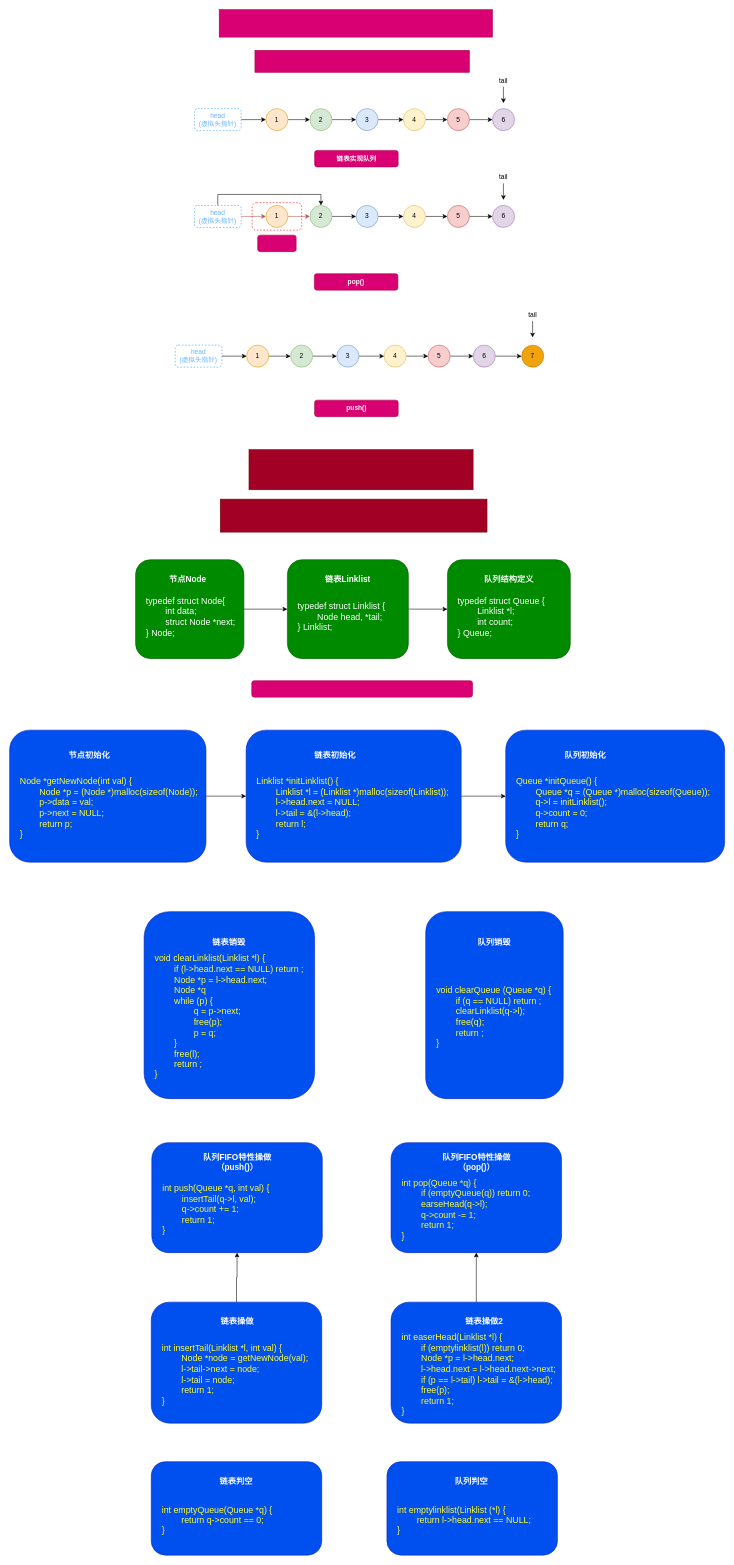
Image size: 734x1565. Some labels were removed from this diagram. Each missing label, with the centre of its shape:
"2.1 队列与栈 （链表实现队列）" goes at (x=361, y=61).
"使用顺序表和链表的特性，加上自己的特性而形成的数据结构 ( 队列的特点：FIFO，即先入先出 ）" goes at (x=353, y=515).
"数据结构层面 队列和栈属于基于链表和顺序表的一种上层数据结构" goes at (x=360, y=469).
"算法与数据结构 >>>> 思维与逻辑结构" goes at (x=356, y=23).
"销毁" goes at (x=276, y=243).
"队列借助低一层的链表所提供的性质，实现自己的性质" goes at (x=362, y=688).
